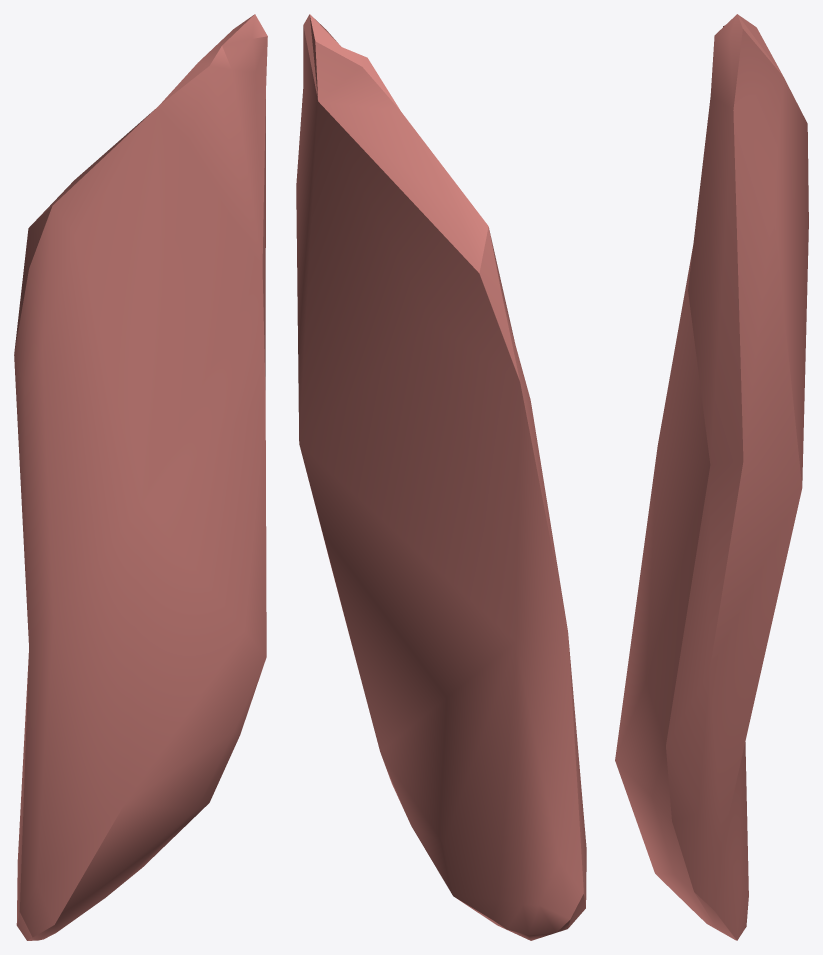
The model's file is fma81545_mm1323m.glb.
The picture shows the model from 3 angles, left to right: view 1: azimuth 30°, elevation 25°; view 2: azimuth 150°, elevation 25°; view 3: azimuth 270°, elevation 25°; orthographic projection. The views are drawn at different scales.
Parts seen in each view (by area): view 1: FMA81545_MM1323M; view 2: FMA81545_MM1323M; view 3: FMA81545_MM1323M.
Boxes of the visible parts, x1,y1,x2,y2 form: FMA81545_MM1323M: [14, 14, 267, 940]; FMA81545_MM1323M: [296, 14, 586, 940]; FMA81545_MM1323M: [615, 14, 808, 940].
Size of the model in its own units: 0.00508 by 0.0161 by 0.00271.
